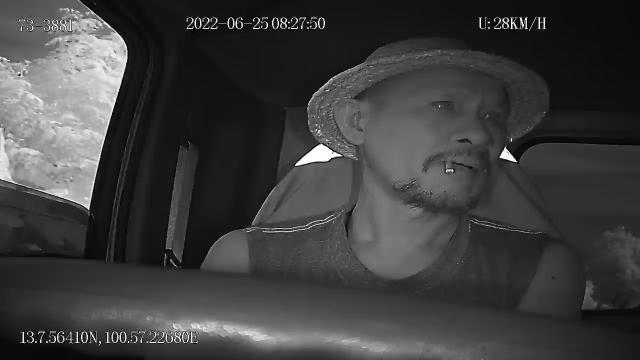SafeDriving: (423, 90, 461, 117)
Smoking: (444, 157, 458, 177)
